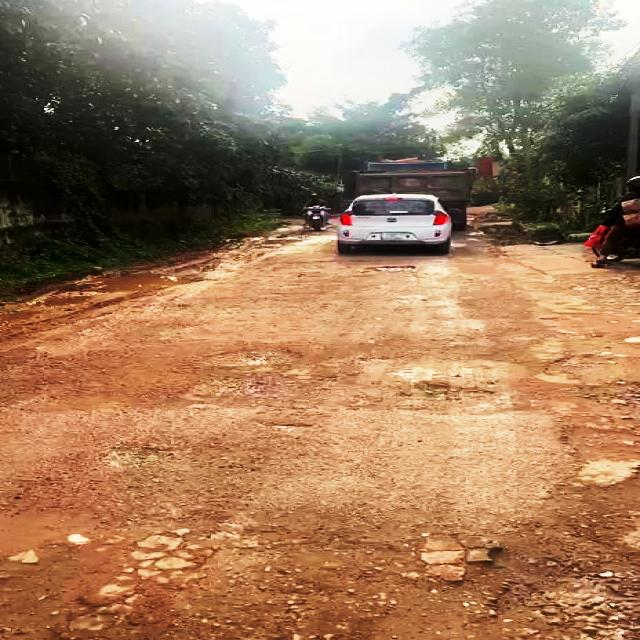pothole: (531, 356, 640, 565), (0, 543, 193, 640), (481, 567, 639, 640), (12, 383, 131, 412), (403, 374, 506, 406), (208, 347, 310, 368), (106, 440, 171, 470), (357, 262, 422, 278)
